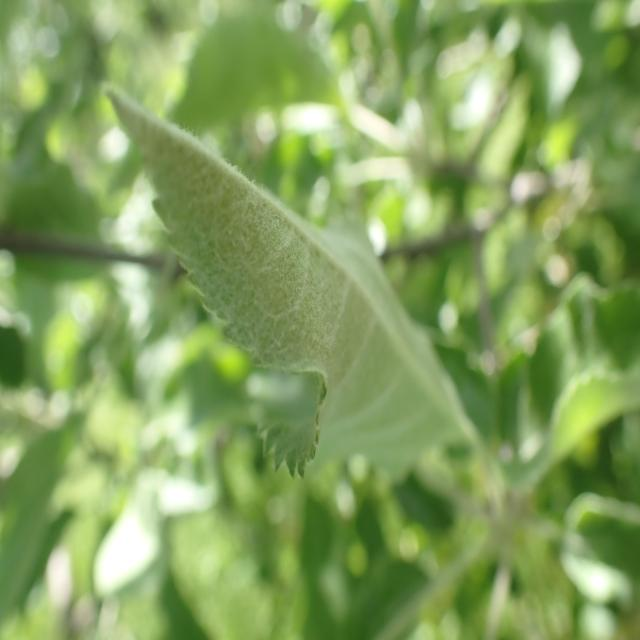Powdery_mildew: (87, 77, 405, 444)
